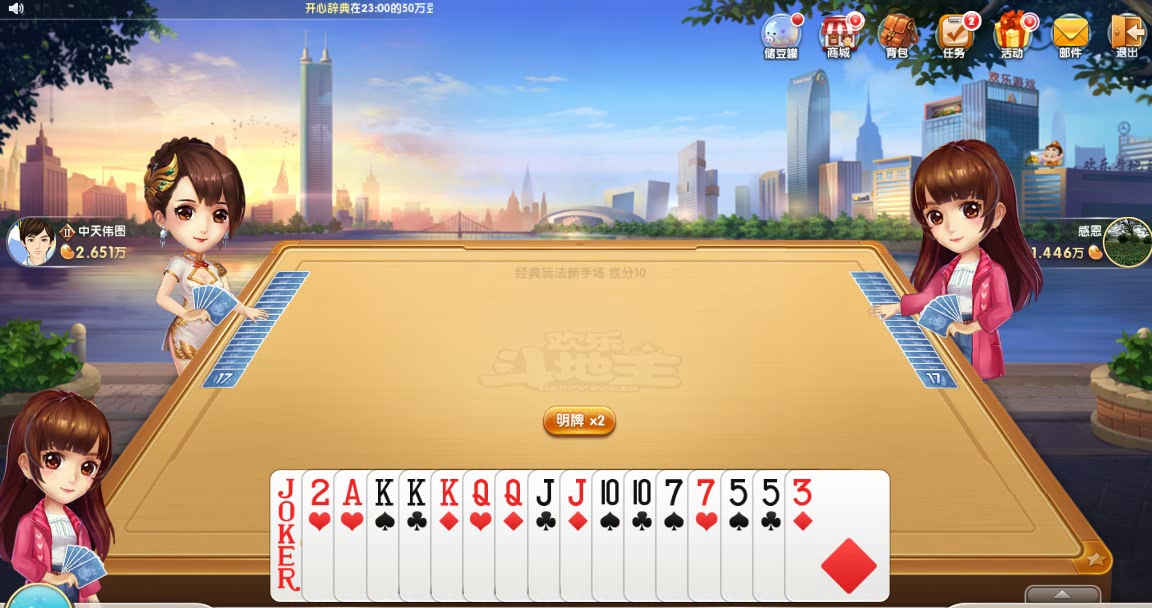10~2: (623, 470, 729, 601)
10~4: (591, 470, 697, 601)
11~1: (559, 470, 665, 601)
11~2: (527, 470, 633, 601)
12~1: (494, 470, 600, 601)
12~3: (462, 470, 568, 601)
13~1: (430, 470, 536, 601)
13~2: (398, 470, 504, 601)
13~4: (366, 470, 472, 601)
14~3: (332, 470, 438, 601)
15~3: (299, 470, 405, 601)
18~4: (270, 470, 376, 601)
3~1: (785, 470, 891, 601)
5~2: (751, 470, 857, 601)
5~4: (720, 470, 826, 601)
7~3: (688, 470, 794, 601)
7~4: (655, 470, 761, 601)
